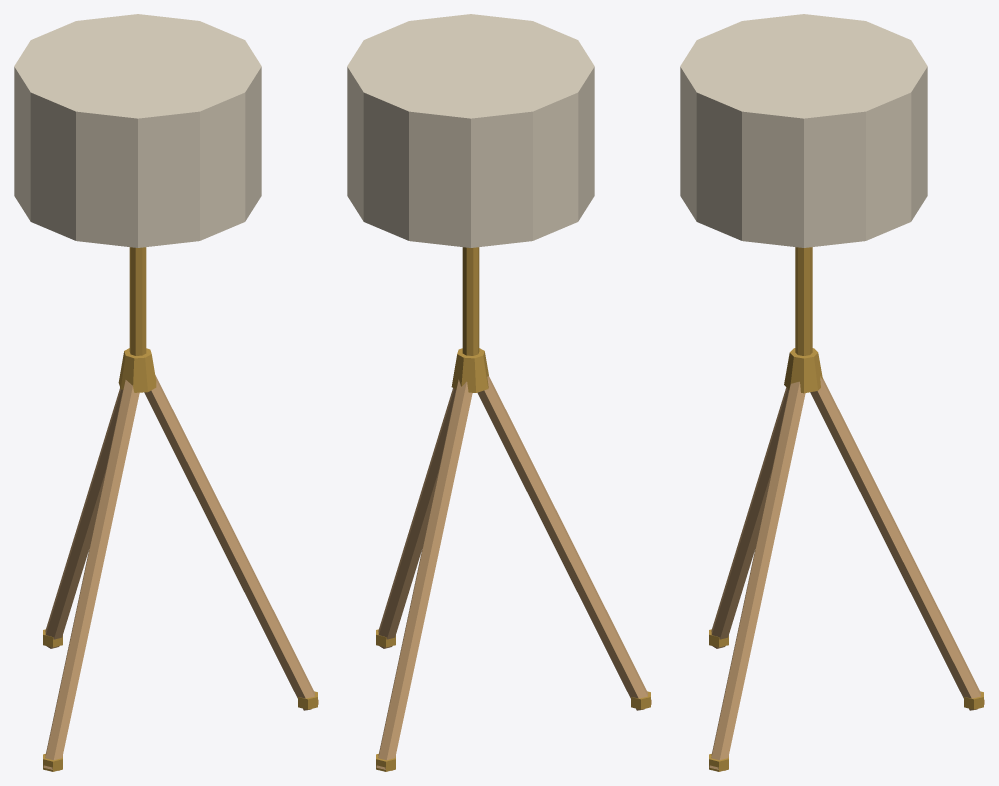
The model's file is SM_LPI_Light_Floor_03.fbx.
3 views of the same model, side by side, from view 1: azimuth 30°, elevation 25°; view 2: azimuth 150°, elevation 25°; view 3: azimuth 270°, elevation 25° (orthographic).
Visible parts, largest first — view 1: SM_LPI_Light_Floor_03; view 2: SM_LPI_Light_Floor_03; view 3: SM_LPI_Light_Floor_03.
Part boxes in pixels (<box>): SM_LPI_Light_Floor_03: <box>14,14,318,771</box>; SM_LPI_Light_Floor_03: <box>347,14,651,771</box>; SM_LPI_Light_Floor_03: <box>680,14,984,771</box>.
Size of the model in its own units: 0.6678 by 1.49 by 0.6398.
